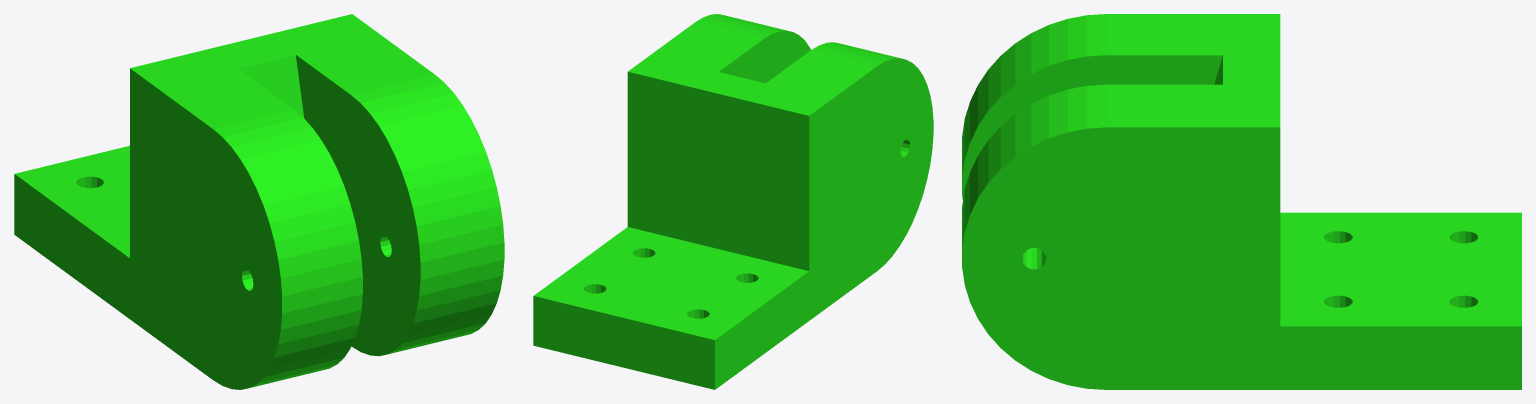
3 renders of one model, left to right at view 1: azimuth 30°, elevation 25°; view 2: azimuth 150°, elevation 25°; view 3: azimuth 270°, elevation 25°, orthographic. The views are drawn at different scales.
Visible parts, largest first — view 1: Sólido1; view 2: Sólido1; view 3: Sólido1.
Part boxes in pixels (x1,y1,x2,y2): Sólido1: (14, 14, 504, 389); Sólido1: (533, 14, 933, 389); Sólido1: (962, 14, 1521, 389).
Size of the model in its own units: 27.8 by 30 by 57.97.
